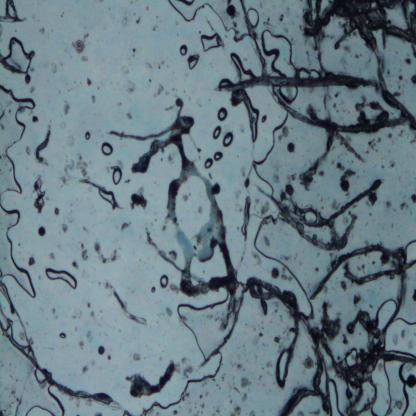Air bubble: (0, 202, 65, 415), (176, 296, 235, 388), (0, 81, 36, 203), (260, 29, 302, 77), (170, 1, 228, 28), (232, 90, 262, 140), (0, 34, 33, 73), (221, 53, 259, 81), (44, 265, 79, 290), (274, 344, 288, 386), (199, 32, 224, 51), (247, 7, 260, 30), (220, 131, 236, 148), (188, 52, 203, 70), (100, 139, 115, 156), (216, 107, 230, 122), (111, 168, 124, 184), (213, 150, 226, 162), (212, 126, 223, 140), (159, 275, 169, 290), (178, 45, 188, 59), (204, 156, 214, 170), (58, 330, 69, 340), (84, 130, 92, 142)
Background material: (57, 152, 92, 182), (268, 163, 294, 199), (0, 0, 29, 25), (34, 178, 51, 218), (131, 180, 151, 207), (333, 160, 357, 178), (233, 174, 254, 192), (141, 51, 157, 74), (78, 242, 92, 264), (86, 298, 98, 323), (352, 294, 366, 313), (251, 327, 265, 344), (119, 61, 133, 76), (397, 194, 410, 210), (62, 96, 71, 118), (26, 256, 40, 270), (63, 134, 77, 148), (239, 378, 253, 392), (47, 56, 57, 74), (183, 363, 193, 381), (338, 282, 352, 293), (36, 23, 47, 37), (126, 79, 136, 94), (384, 198, 396, 210), (231, 404, 243, 416), (367, 138, 378, 151), (409, 70, 416, 89), (410, 288, 416, 310), (156, 84, 165, 98), (273, 334, 282, 347), (85, 75, 93, 87), (83, 364, 90, 376), (241, 394, 249, 404), (410, 192, 416, 205), (136, 12, 141, 27), (91, 94, 97, 104), (56, 211, 61, 222), (391, 162, 397, 170), (138, 353, 142, 364), (64, 224, 68, 234)
Cellulose filter fibre: (0, 322, 123, 410), (309, 243, 416, 317), (265, 85, 413, 135), (299, 9, 340, 189), (353, 20, 416, 132), (300, 1, 416, 57), (246, 274, 301, 388), (317, 326, 416, 380), (221, 194, 253, 330), (261, 211, 363, 251), (213, 70, 380, 94), (103, 278, 150, 327), (122, 360, 180, 399), (345, 263, 416, 292), (276, 386, 334, 414), (80, 178, 122, 211), (35, 119, 54, 166), (89, 240, 124, 265)
Diatom: (285, 180, 385, 223), (226, 2, 237, 20), (74, 39, 86, 54), (36, 226, 48, 240), (173, 95, 184, 109), (340, 181, 352, 193), (406, 375, 416, 389), (304, 356, 314, 370), (369, 191, 378, 206), (286, 140, 296, 153), (97, 346, 108, 356), (272, 267, 280, 279), (24, 72, 32, 84)
